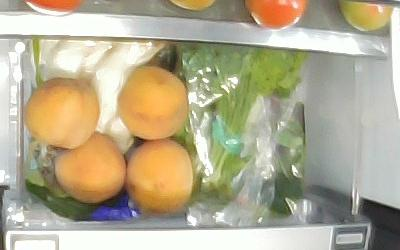peach: (25, 77, 100, 150), (116, 67, 189, 140), (54, 131, 127, 204), (126, 137, 194, 214)
